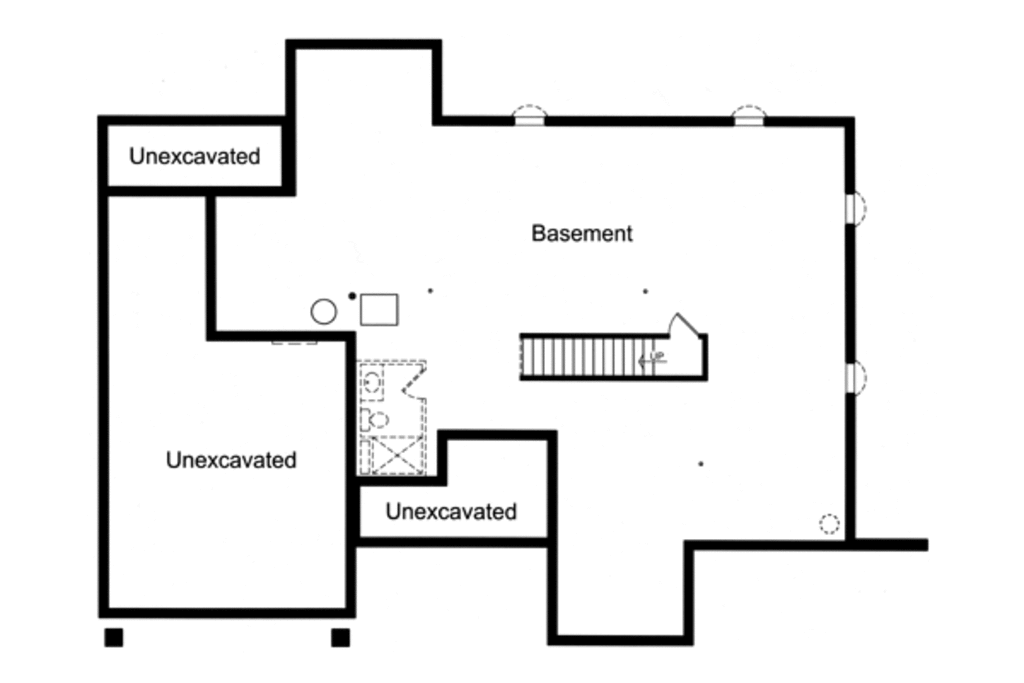door: (400, 362, 434, 399), (668, 313, 702, 344)
large_sink: (360, 402, 397, 437)
small_sink: (355, 367, 394, 401)
stairs: (516, 335, 673, 387)
